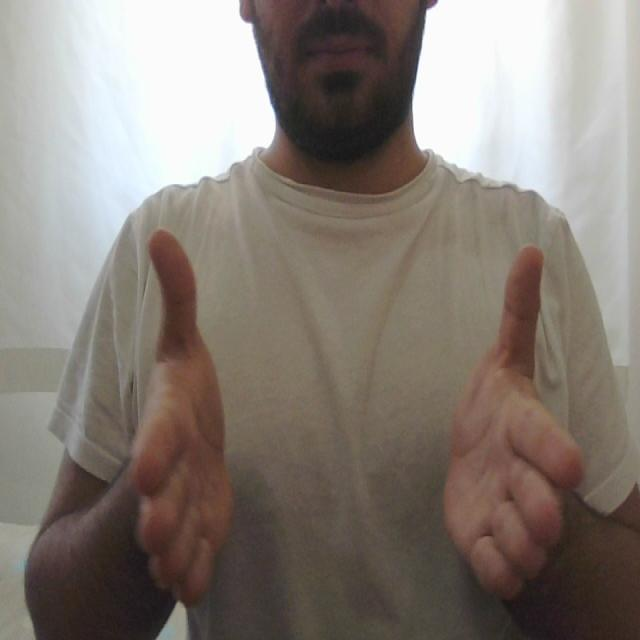Nasil: (107, 208, 602, 616)
